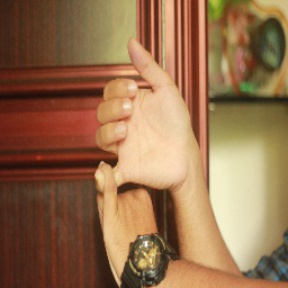S: (80, 36, 196, 285)
